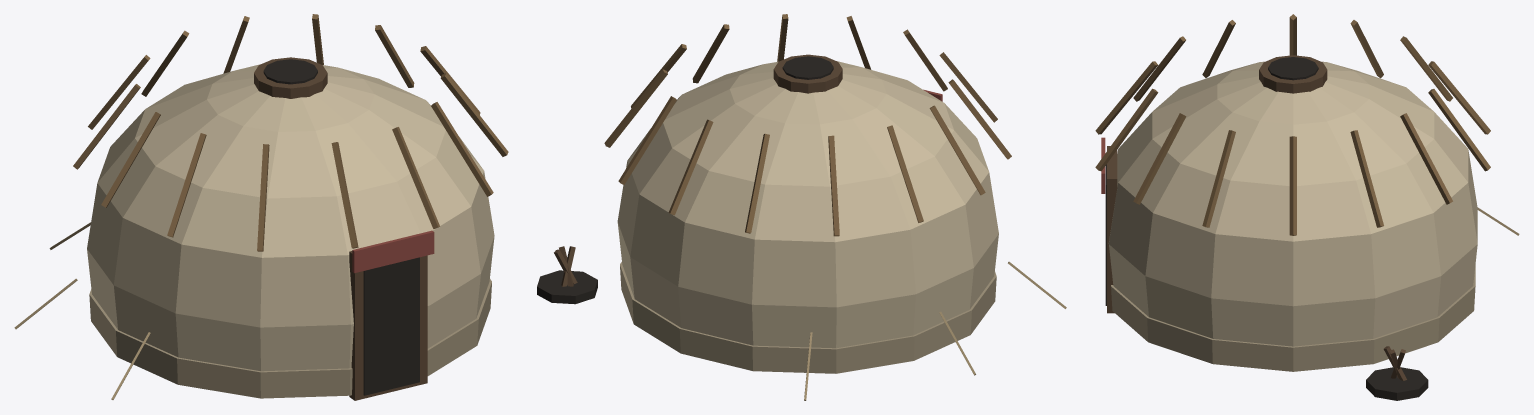
The model's file is S_Yurt.glb.
The picture shows the model from 3 angles, left to right: view 1: azimuth 30°, elevation 25°; view 2: azimuth 150°, elevation 25°; view 3: azimuth 270°, elevation 25°; orthographic projection. The views are drawn at different scales.
Visible parts, largest first — view 1: S_Yurt; view 2: S_Yurt; view 3: S_Yurt.
Boxes of the visible parts, x1,y1,x2,y2 form: S_Yurt: (14,14,508,400); S_Yurt: (537,14,1066,400); S_Yurt: (1095,14,1519,400).
Size of the model in its own units: 6.6 by 3.43 by 5.72.
